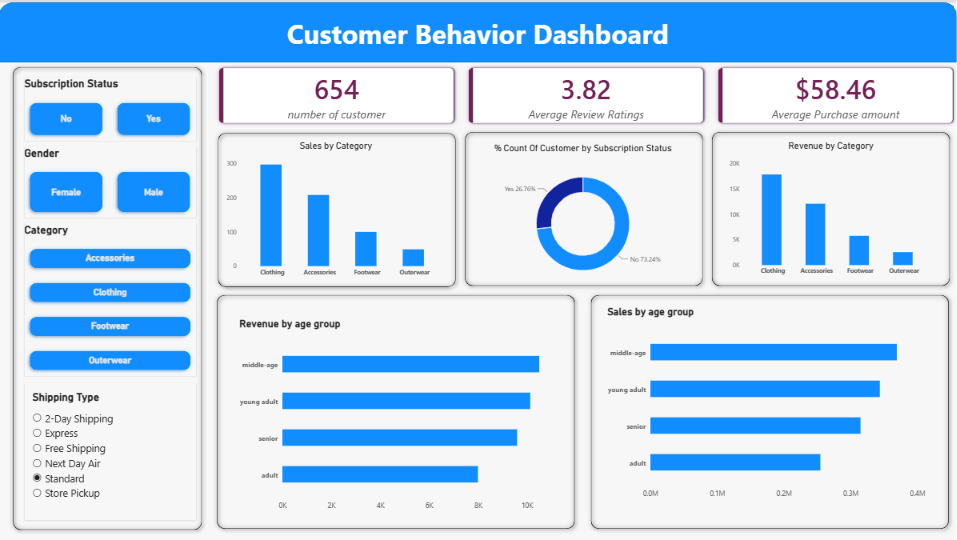

The dashboard page shown, as its layout file describes it:
{"tool":"powerbi","page":{"name":"Page 1","canvas":[1920,1080],"ordinal":0},"visuals":[{"type":"cardVisual","fields":{"Data":["public customer.number of customer","public customer.Average Review Ratings","public customer.Average Purchase amount"]},"box":[430,120,1490,132],"z":0},{"type":"shape","box":[0,0,1920,120],"z":1000},{"type":"textbox","box":[544,26,830,110],"z":2000},{"type":"donutChart","title":"% Count Of Customer by Subscription Status ","fields":{"Category":["public customer.subscription_status"],"Y":["CountNonNull(public customer.customer_id)"]},"box":[958,266,422,318],"z":3000},{"type":"clusteredColumnChart","title":"Revenue by Category","fields":{"Category":["public customer.category"],"Y":["Sum(public customer.purchase_amount)"]},"box":[1446,262,438,304],"z":4000},{"type":"shape","box":[1418,250,494,326],"z":5000},{"type":"clusteredColumnChart","title":"Sales by Category","fields":{"Category":["public customer.category"],"Y":["CountNonNull(public customer.customer_id)"]},"box":[440,262,470,306],"z":6000},{"type":"shape","box":[923.9,250,494,326],"z":7000},{"type":"shape","box":[430,252,493.8,326.2],"z":8000},{"type":"shape","box":[20,120,396,944],"z":9000},{"type":"advancedSlicerVisual","title":"Subscription Status","fields":{"Values":["public customer.subscription_status"]},"box":[52.5,150,343.8,126.2],"z":10000},{"type":"advancedSlicerVisual","title":"Gender","fields":{"Values":["public customer.gender"]},"box":[52.5,288.8,343.8,142.5],"z":11000},{"type":"advancedSlicerVisual","title":"Category","fields":{"Values":["public customer.category"]},"box":[52.5,442.5,343.8,305],"z":12000},{"type":"listSlicer","title":"Shipping Type","fields":{"Values":["public customer.shipping_type"]},"box":[52.5,762.5,343.8,273.8],"z":13000},{"type":"shape","box":[428,576,733.7,486],"z":14000,"group":"g1"},{"type":"clusteredBarChart","title":"Revenue by age group","fields":{"Category":["public customer.age_group"],"Y":["Sum(public customer.purchase_amount)"]},"box":[466,616,668,420],"z":15000},{"type":"shape","box":[1176.3,576,733.7,486],"z":16000,"group":"g1"},{"type":"group","id":"g1","title":"Group 1","box":[428,576,1482,486],"z":16001},{"type":"clusteredBarChart","title":"Sales by age group","fields":{"Category":["public customer.age_group"],"Y":["Sum(public customer.customer_id)"]},"box":[1202,592,668,420],"z":16002}]}

Visuals, with their boxes in screenshot pixels (x1, y1, x2, y2), scaled from the page's 1920x1080 canvas onto the 957x540 screenshot:
cardVisual - public customer.number of customer x public customer.Average Review Ratings: (left=214, top=60, right=956, bottom=126)
shape: (left=0, top=0, right=956, bottom=60)
textbox: (left=271, top=13, right=685, bottom=68)
"% Count Of Customer by Subscription Status " donutChart: (left=478, top=133, right=688, bottom=292)
"Revenue by Category" clusteredColumnChart: (left=721, top=131, right=939, bottom=283)
shape: (left=707, top=125, right=953, bottom=288)
"Sales by Category" clusteredColumnChart: (left=219, top=131, right=454, bottom=284)
shape: (left=461, top=125, right=707, bottom=288)
shape: (left=214, top=126, right=460, bottom=289)
shape: (left=10, top=60, right=207, bottom=532)
"Subscription Status" advancedSlicerVisual: (left=26, top=75, right=198, bottom=138)
"Gender" advancedSlicerVisual: (left=26, top=144, right=198, bottom=216)
"Category" advancedSlicerVisual: (left=26, top=221, right=198, bottom=374)
"Shipping Type" listSlicer: (left=26, top=381, right=198, bottom=518)
shape: (left=213, top=288, right=579, bottom=531)
"Revenue by age group" clusteredBarChart: (left=232, top=308, right=565, bottom=518)
shape: (left=586, top=288, right=952, bottom=531)
"Group 1" group: (left=213, top=288, right=952, bottom=531)
"Sales by age group" clusteredBarChart: (left=599, top=296, right=932, bottom=506)
